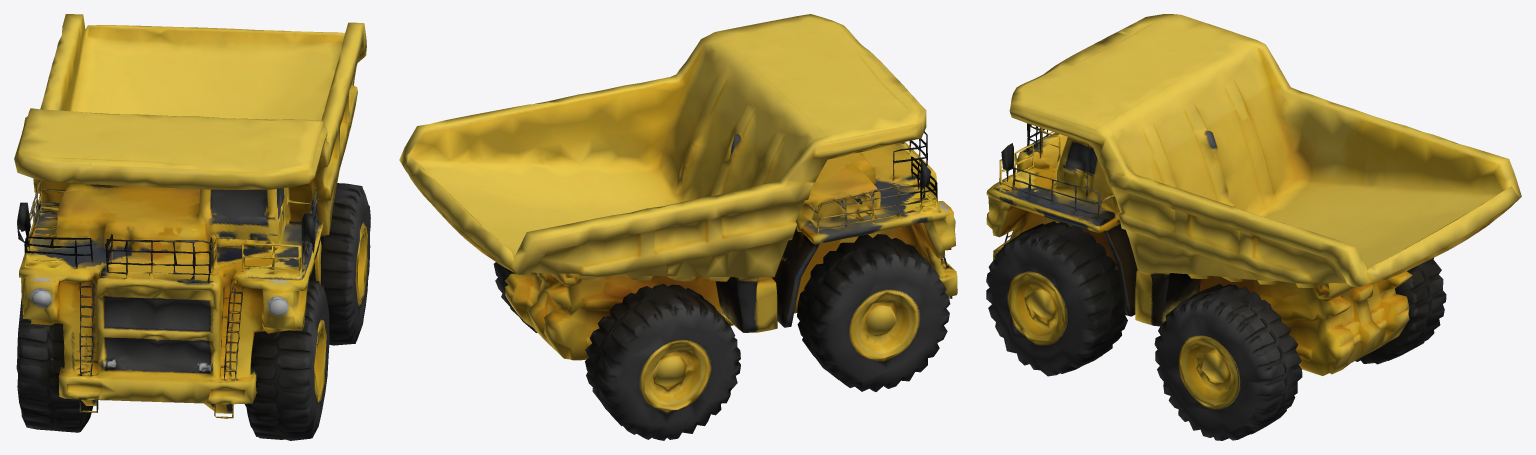
The model's file is haul-truck.glb.
3 renders of one model, left to right at view 1: azimuth 30°, elevation 25°; view 2: azimuth 150°, elevation 25°; view 3: azimuth 270°, elevation 25°, orthographic. The views are drawn at different scales.
Parts seen in each view (by area): view 1: aiprintgen_i5q5gj.obj; view 2: aiprintgen_i5q5gj.obj; view 3: aiprintgen_i5q5gj.obj.
Part boxes in pixels (x1,y1,x2,y2): aiprintgen_i5q5gj.obj: (14, 14, 370, 440); aiprintgen_i5q5gj.obj: (399, 14, 957, 440); aiprintgen_i5q5gj.obj: (986, 14, 1521, 440).
Size of the model in its own units: 1.55 by 0.9296 by 1.66.
Materials: 1 (1 with a texture image).
